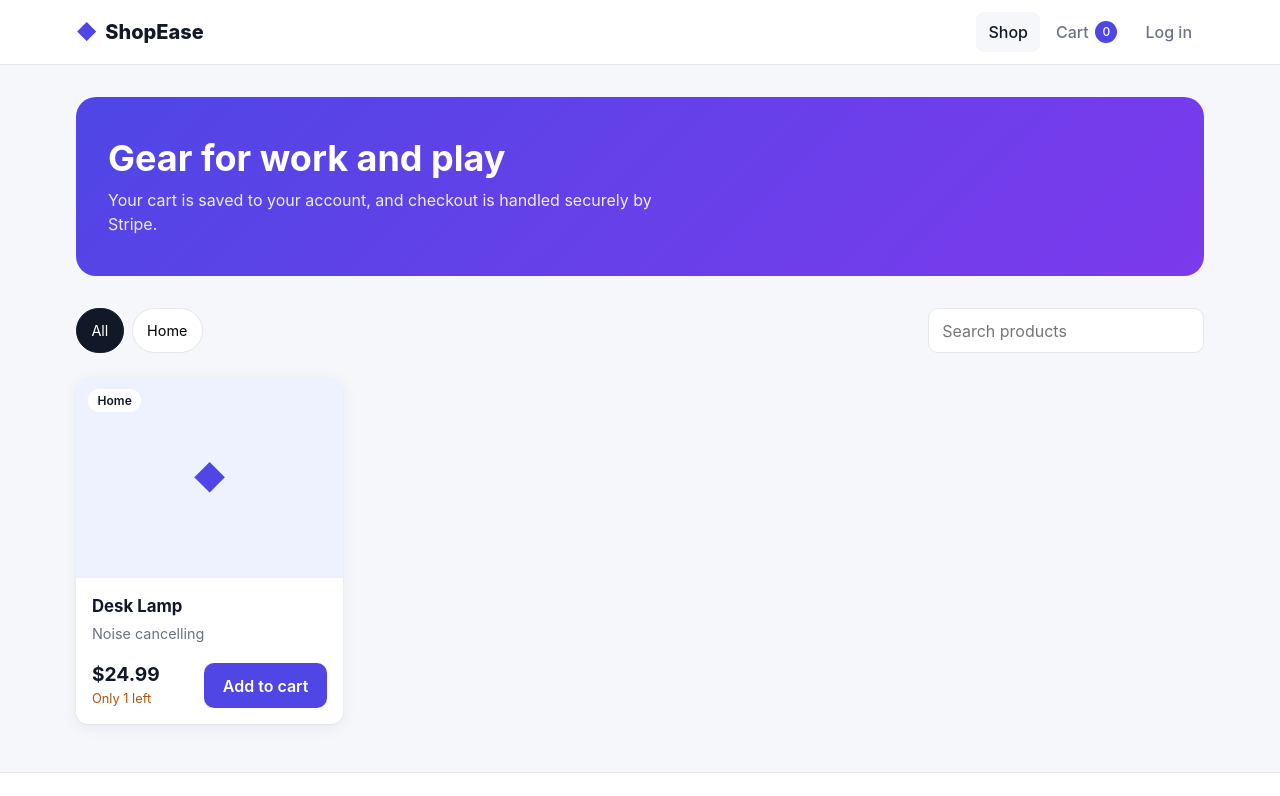
Scenario: shop and guest cart › does not let a guest add more than is in stock
The image size is (1280, 796).
Step 1. Click the button "Add to cart" → (266,686), box [204,663,327,708]
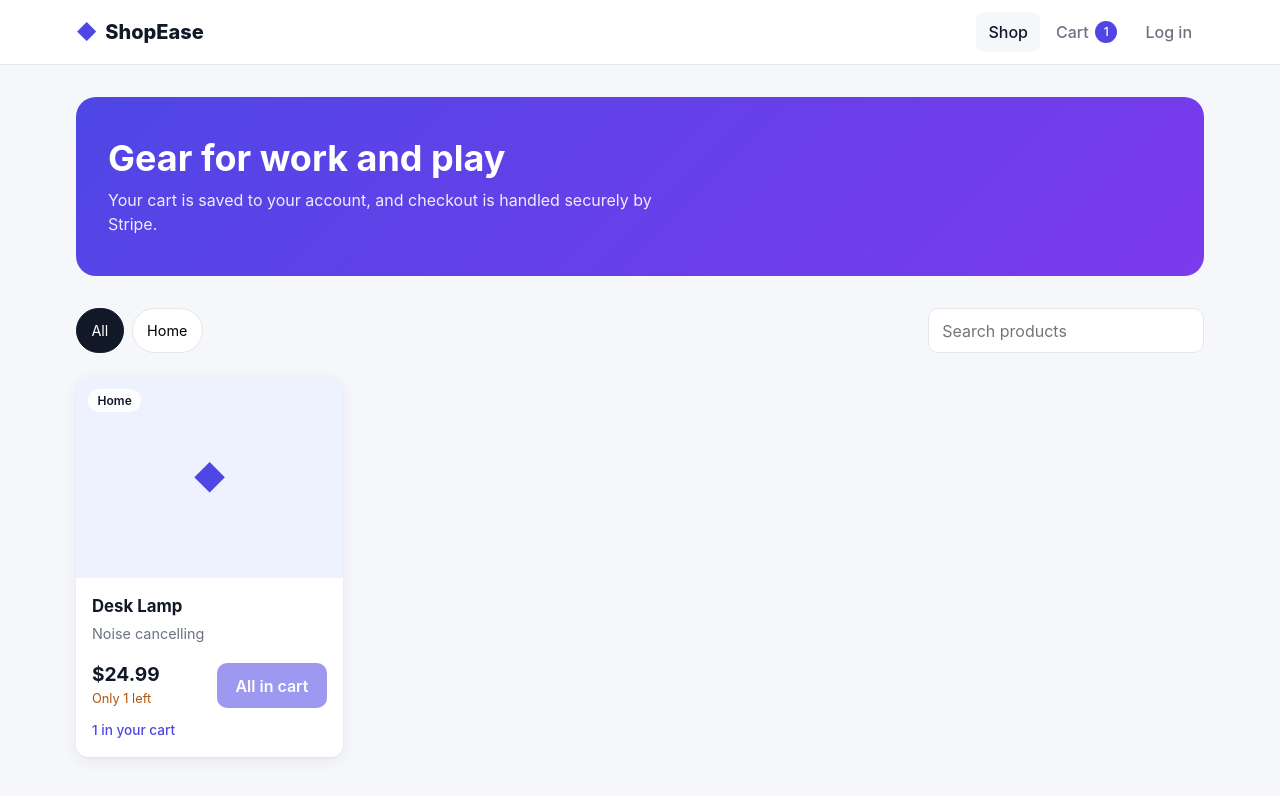
Expected: the text "Only 1 left" is shown, [92,689,160,708]
Now the button "All in cart" is disabled, box [217,663,327,708]
